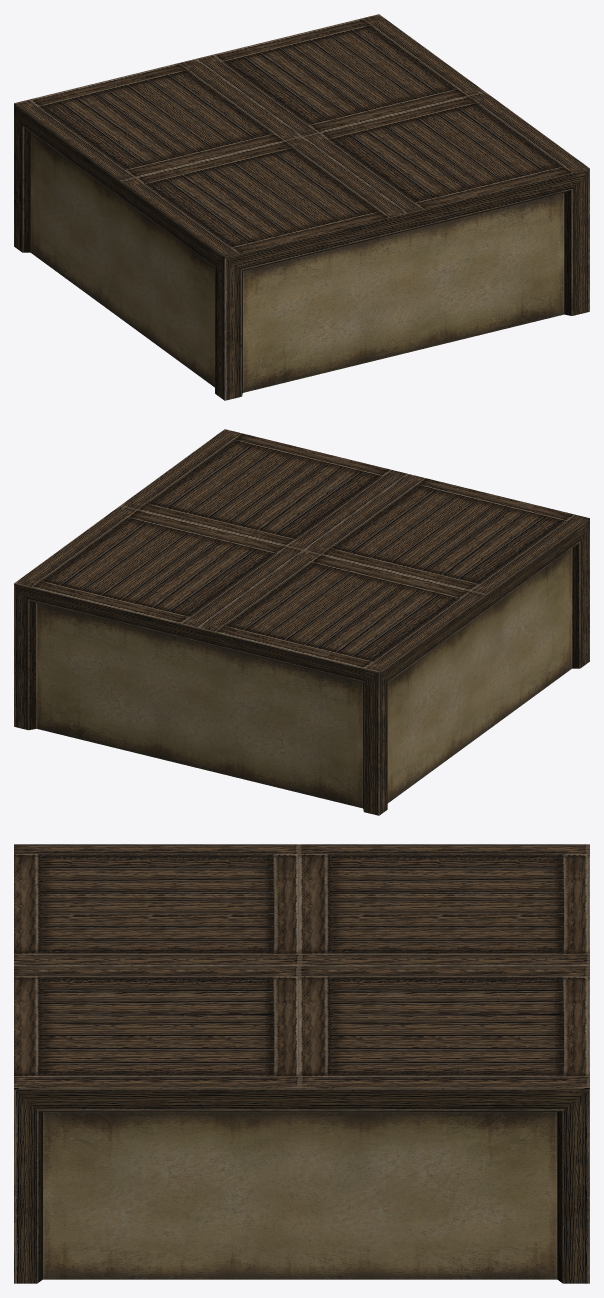
The model's file is House_8X8_03a.fbx.
The picture shows the model from 3 angles, top to bottom: view 1: azimuth 30°, elevation 25°; view 2: azimuth 150°, elevation 25°; view 3: azimuth 270°, elevation 25°; orthographic projection. The views are drawn at different scales.
Visible parts, largest first — view 1: House_8X8_03a; view 2: House_8X8_03a; view 3: House_8X8_03a.
Part boxes in pixels (left/top/right/bottom): House_8X8_03a: left=14, top=14, right=589, bottom=400; House_8X8_03a: left=14, top=429, right=589, bottom=815; House_8X8_03a: left=14, top=844, right=589, bottom=1283.
Size of the model in its own units: 8 by 3 by 8.
